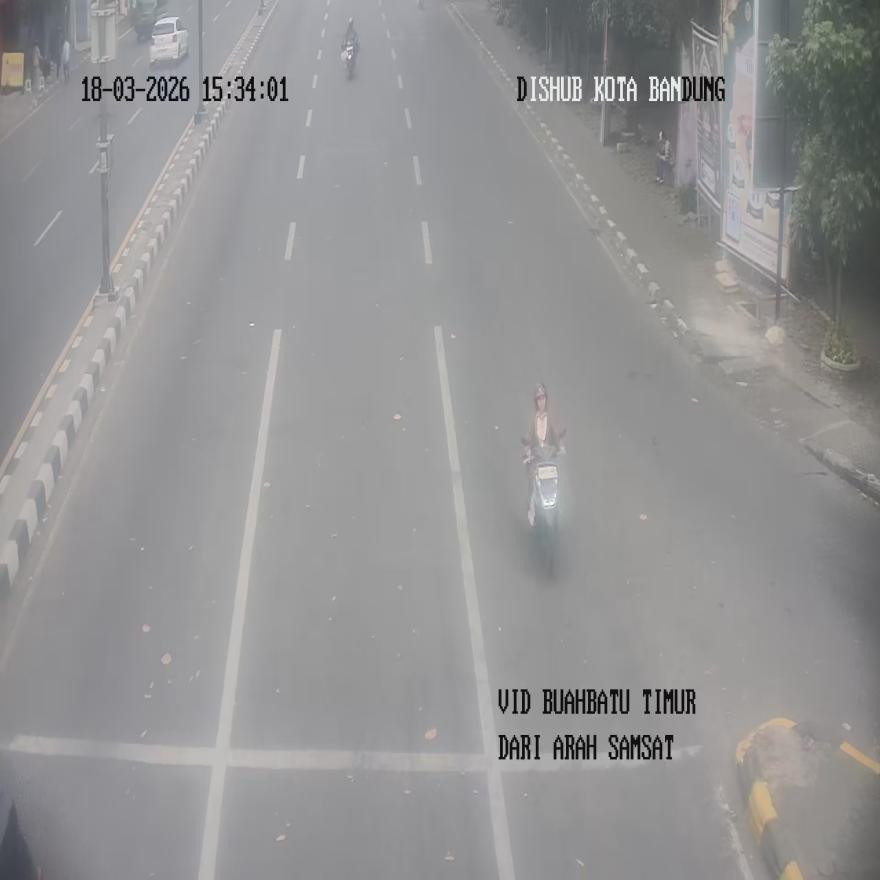Truk: (525, 443, 562, 576), (342, 39, 356, 79)
